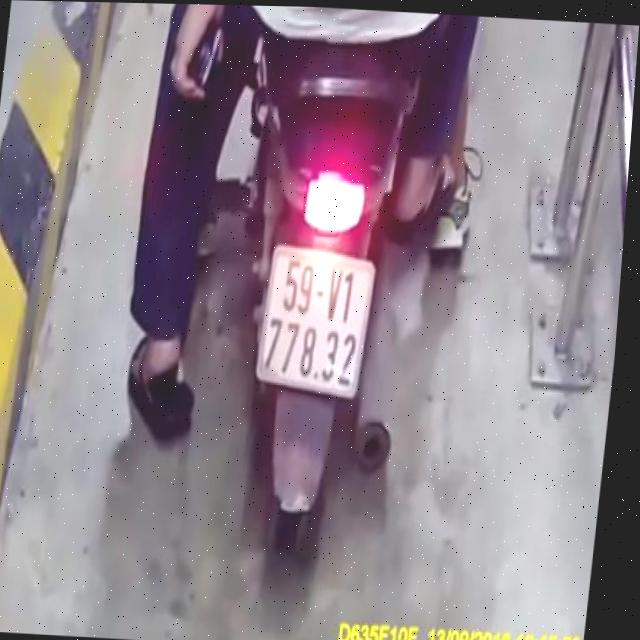motorcycle: (196, 58, 443, 570)
plate: (244, 237, 379, 403)
